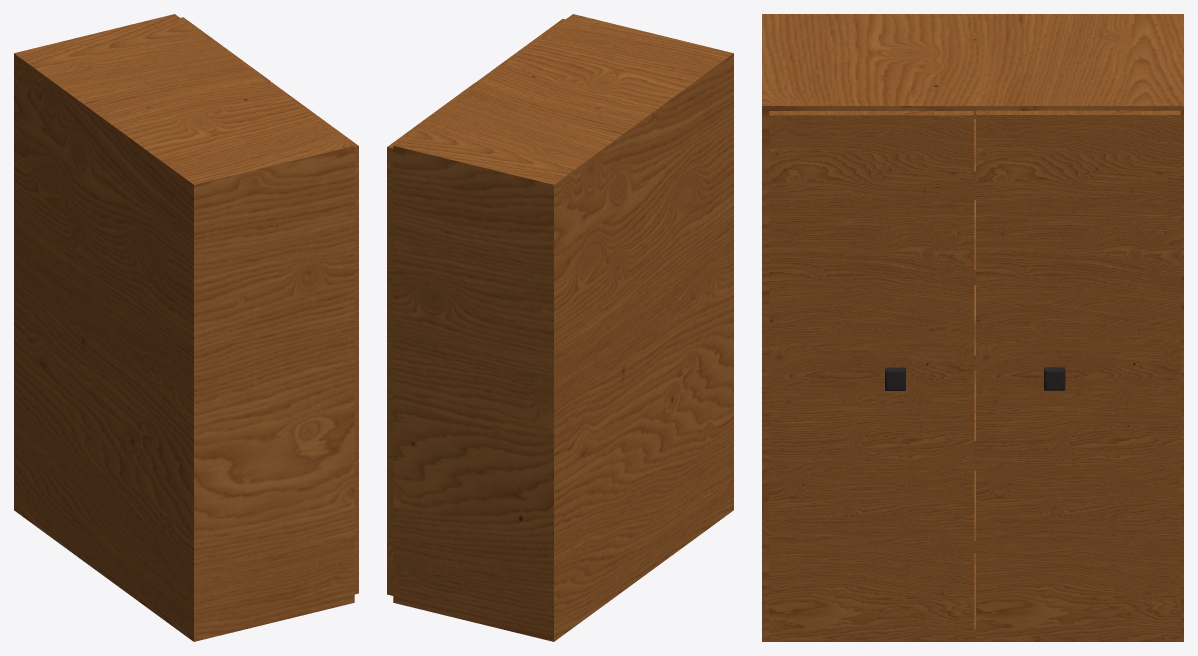
The model's file is cabinet (7).fbx.
3 renders of one model, left to right at view 1: azimuth 30°, elevation 25°; view 2: azimuth 150°, elevation 25°; view 3: azimuth 270°, elevation 25°, orthographic. The views are drawn at different scales.
Visible parts, largest first — view 1: cabinet, r_door; view 2: cabinet, l_door; view 3: r_door, l_door, cabinet.
Boxes of the visible parts, <box> form: cabinet: <box>14,14,354,641</box>; r_door: <box>269,82,358,594</box>; cabinet: <box>393,14,733,641</box>; l_door: <box>387,83,477,595</box>; r_door: <box>769,111,974,639</box>; l_door: <box>976,110,1180,639</box>; cabinet: <box>762,14,1183,641</box>.
Bounding box in the file's own units: 164 × 409 × 292.
